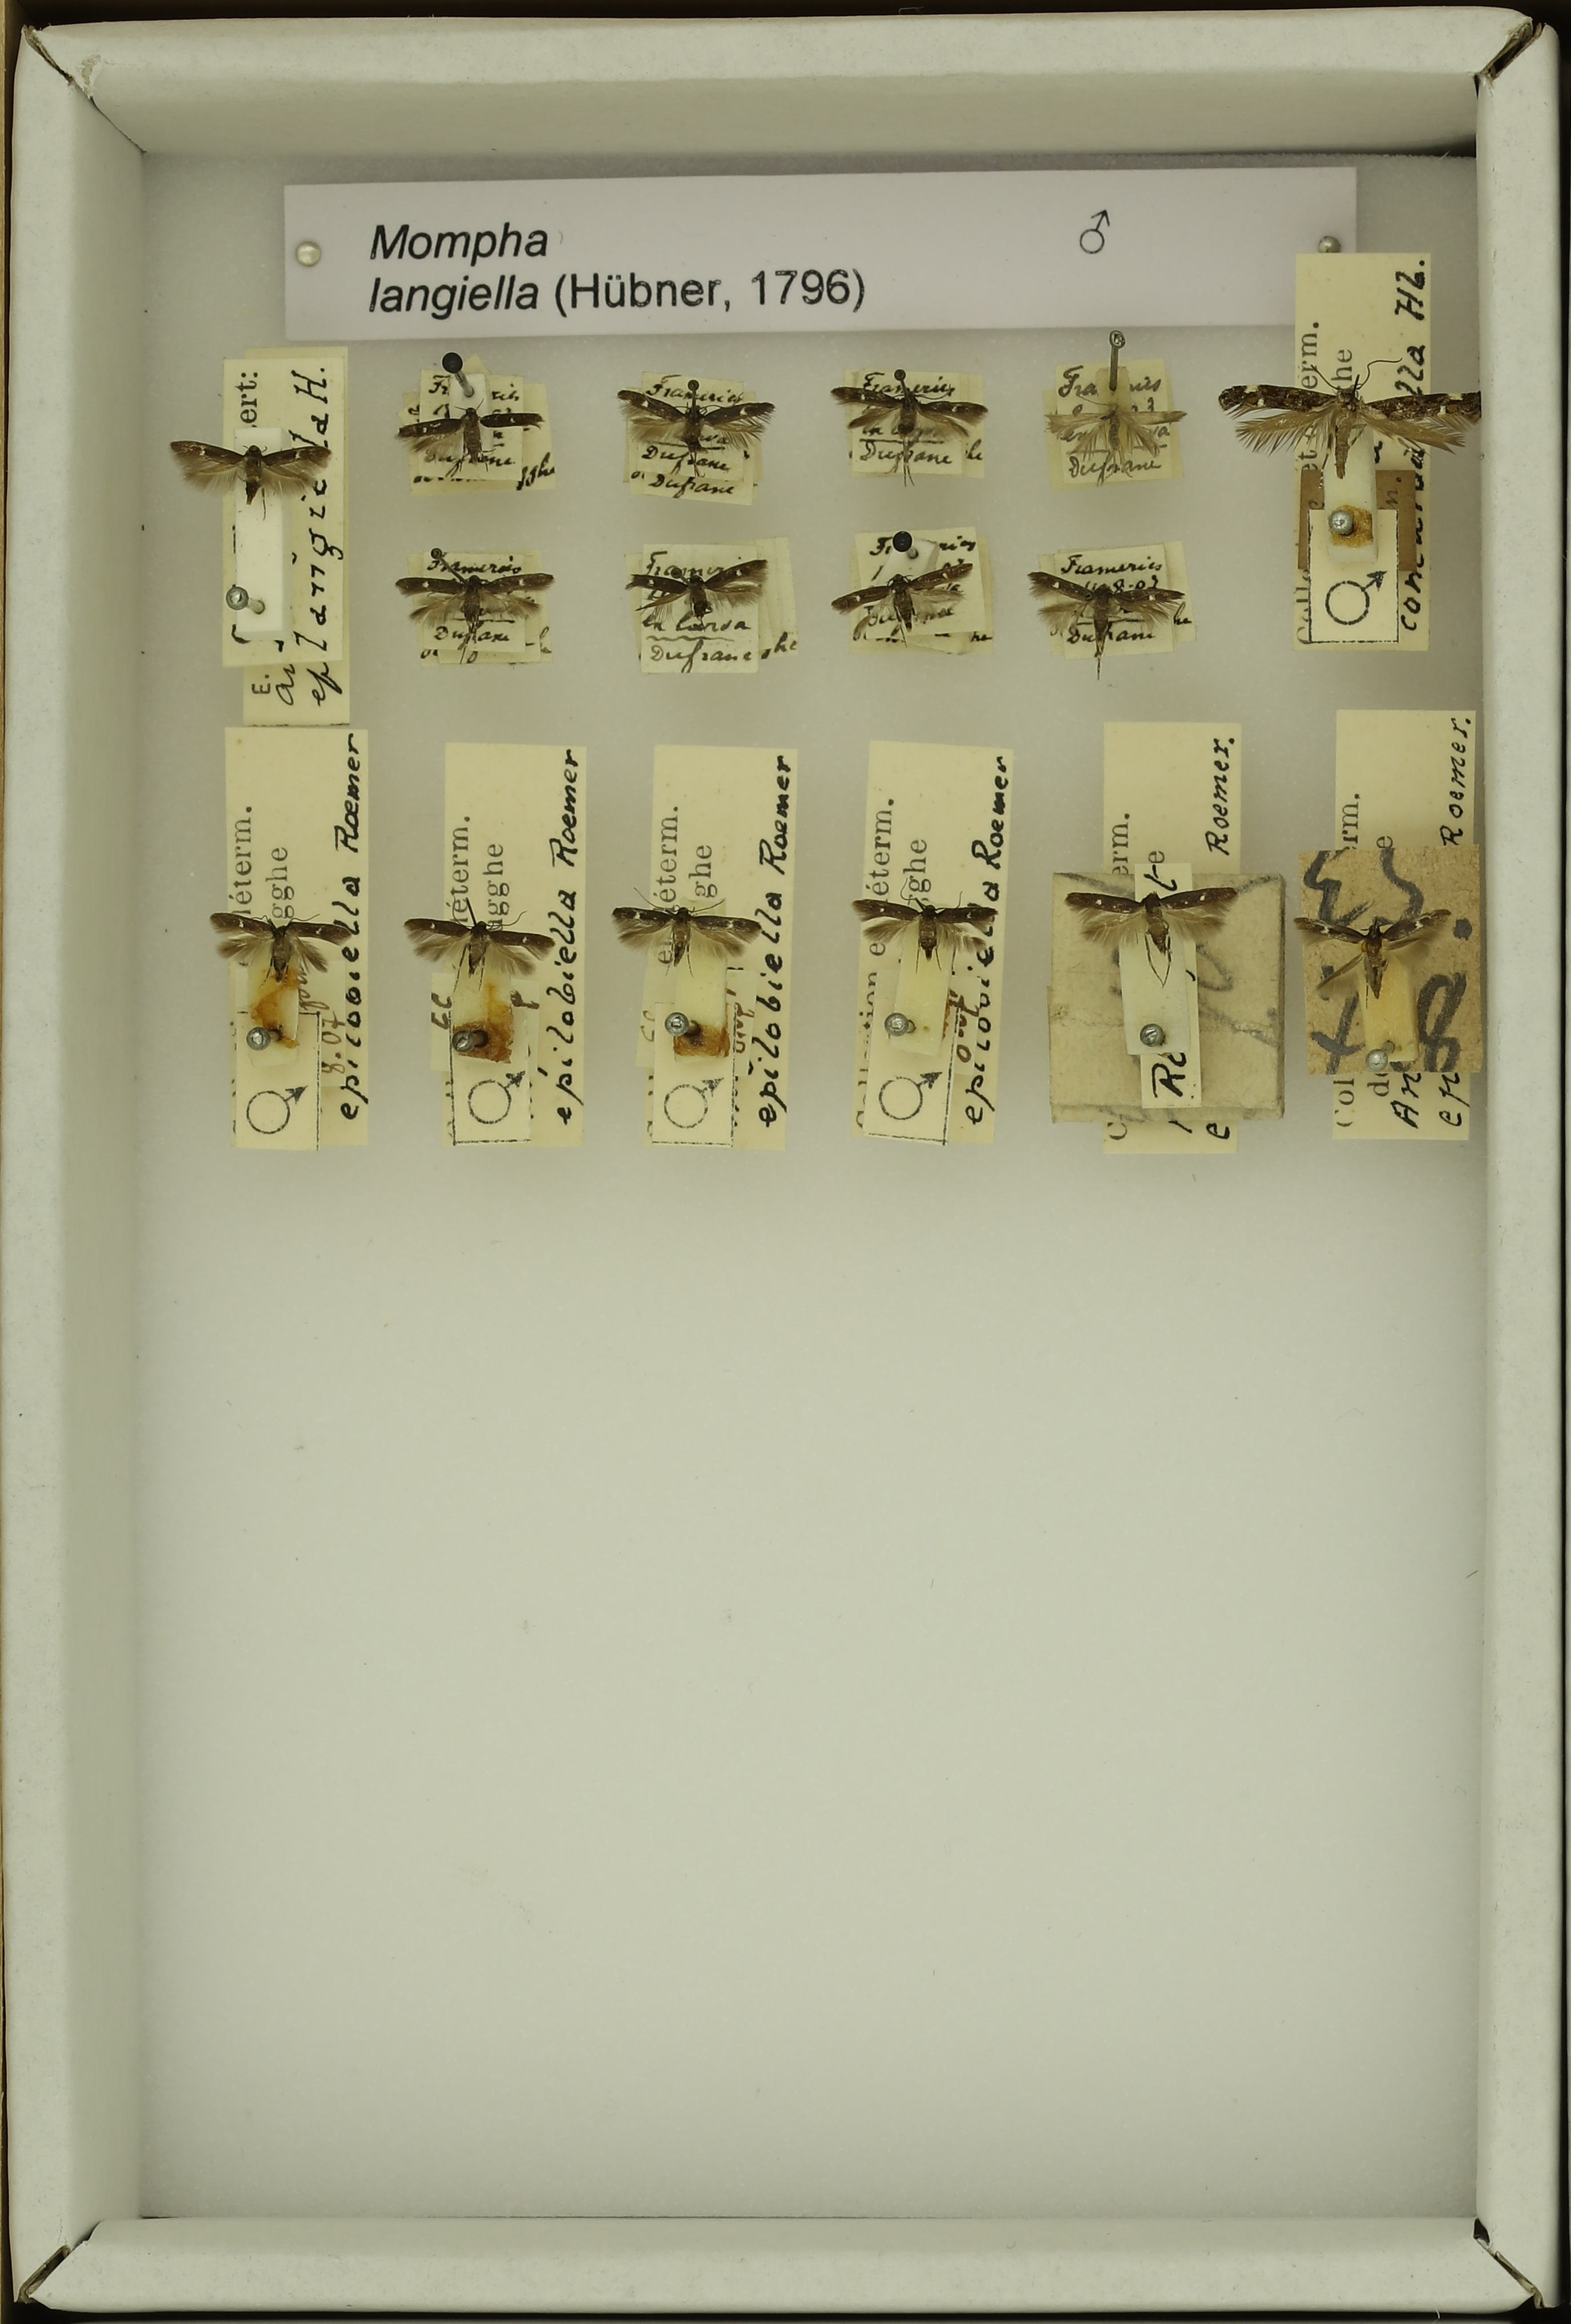insect: (1213, 361, 1487, 471), (1063, 880, 1254, 983), (1287, 901, 1457, 1011), (1020, 561, 1185, 668), (160, 428, 333, 508), (828, 375, 992, 456), (615, 379, 773, 463), (847, 885, 1001, 969), (828, 549, 978, 633), (608, 894, 770, 971), (202, 906, 361, 981), (403, 908, 559, 983), (395, 559, 558, 631), (626, 547, 777, 624), (386, 394, 540, 466), (1045, 400, 1192, 466)
